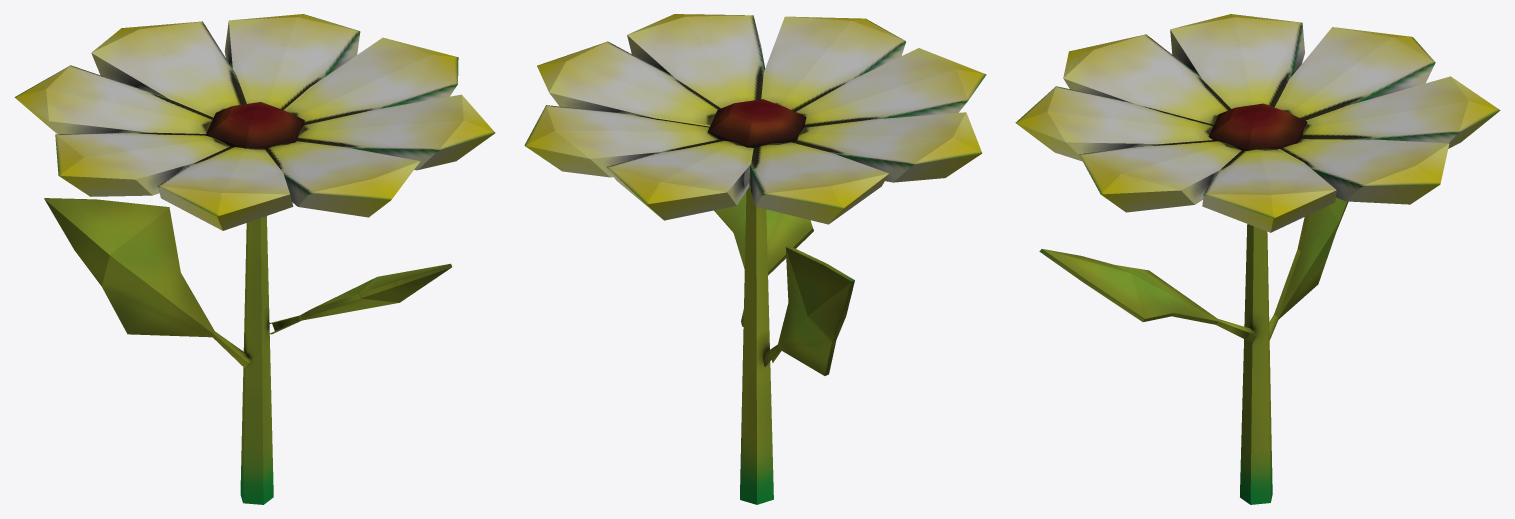
File: white_flower.fbx
The picture shows the model from 3 angles, left to right: view 1: azimuth 30°, elevation 25°; view 2: azimuth 150°, elevation 25°; view 3: azimuth 270°, elevation 25°; orthographic projection.
Visible parts, largest first — view 1: polySurface4283; view 2: polySurface4283; view 3: polySurface4283.
Boxes of the visible parts, x1,y1,x2,y2 form: polySurface4283: (14,14,495,504); polySurface4283: (524,14,986,504); polySurface4283: (1015,14,1500,504).
Bounding box in the file's own units: 0.0631 × 0.0563 × 0.0632.
